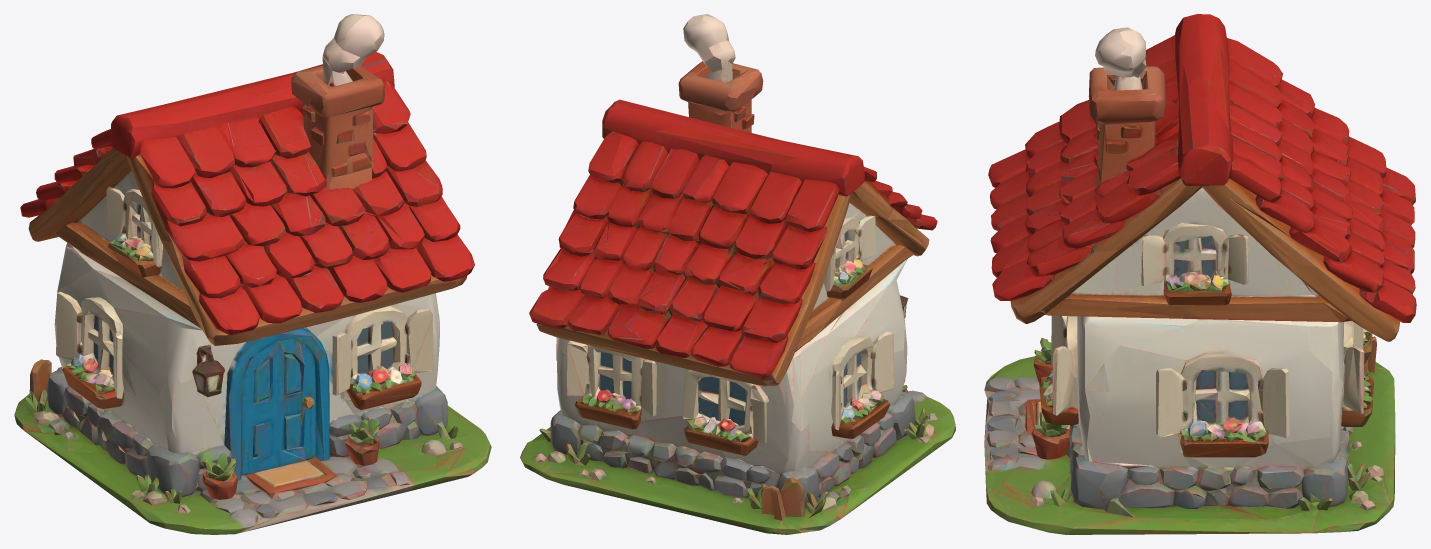
File: huis.glb
The picture shows the model from 3 angles, left to right: view 1: azimuth 30°, elevation 25°; view 2: azimuth 150°, elevation 25°; view 3: azimuth 270°, elevation 25°; orthographic projection. The views are drawn at different scales.
Visible parts, largest first — view 1: Mesh_0; view 2: Mesh_0; view 3: Mesh_0.
Boxes of the visible parts, x1,y1,x2,y2 form: Mesh_0: (14, 14, 491, 534); Mesh_0: (520, 14, 955, 534); Mesh_0: (984, 14, 1416, 534).
Bounding box in the file's own units: 1.6 × 1.9 × 1.64.
1 material, 1 textured.
